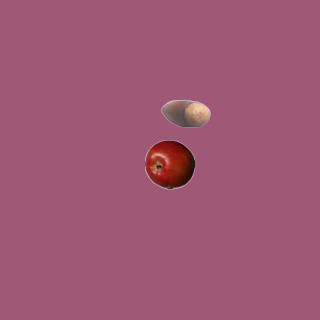Apple Braeburn: (144, 139, 194, 189)
Hazelnut: (160, 88, 210, 138)
